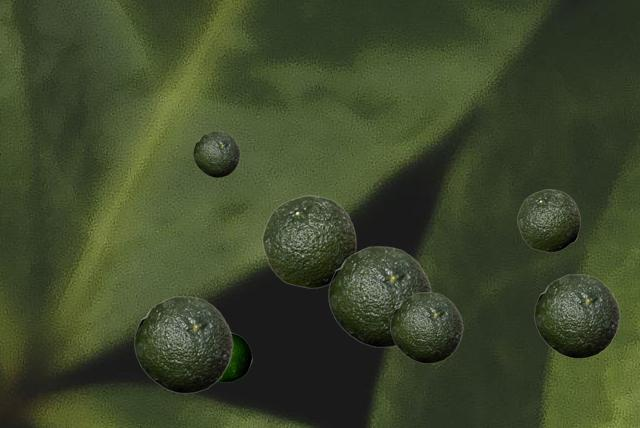calamansi: (328, 246, 431, 346), (134, 296, 232, 392), (262, 195, 355, 287), (534, 274, 619, 357), (390, 292, 462, 362), (517, 189, 579, 251), (193, 131, 239, 176), (218, 332, 251, 381)
